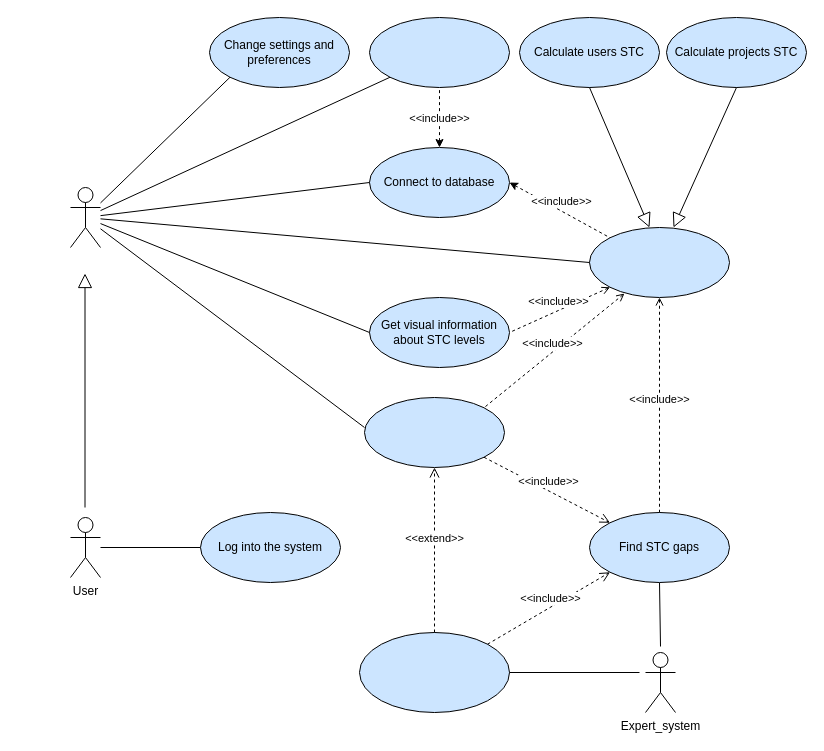
The diagram is 824 pixels wide and 751 high, and some of its shapes have lost their labels. Here are the shapes that lost their labels. From the top down, the centre of each, then its label:
the point at 439,52: Add, delete or edit database users and tasks
the point at 85,217: Logged_user
the point at 659,262: Calculate STC
the point at 434,432: Check STC gaps and recommendations
the point at 434,672: Provide recommendations to address STC gaps
